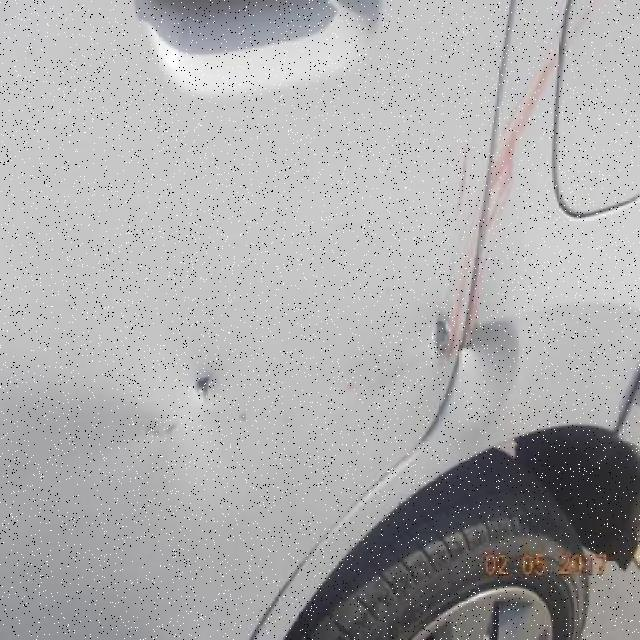damage: (443, 0, 593, 373), (183, 362, 229, 412), (427, 308, 457, 372), (138, 419, 185, 443), (235, 406, 251, 430)
